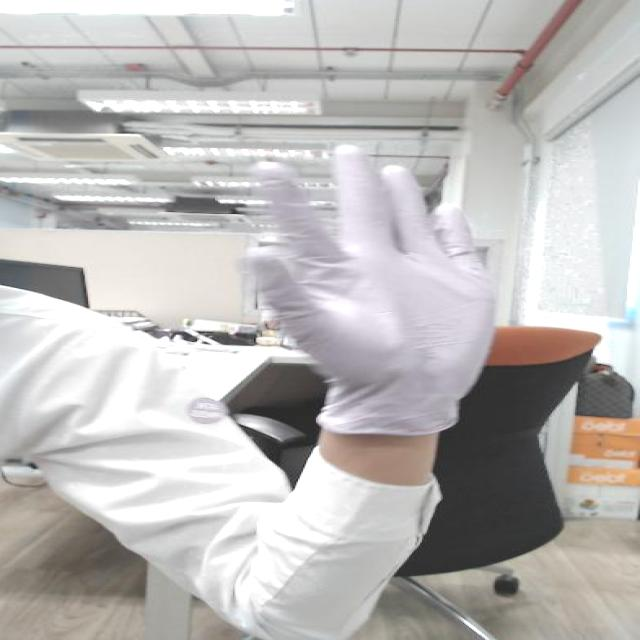glove: (219, 135, 546, 393)
